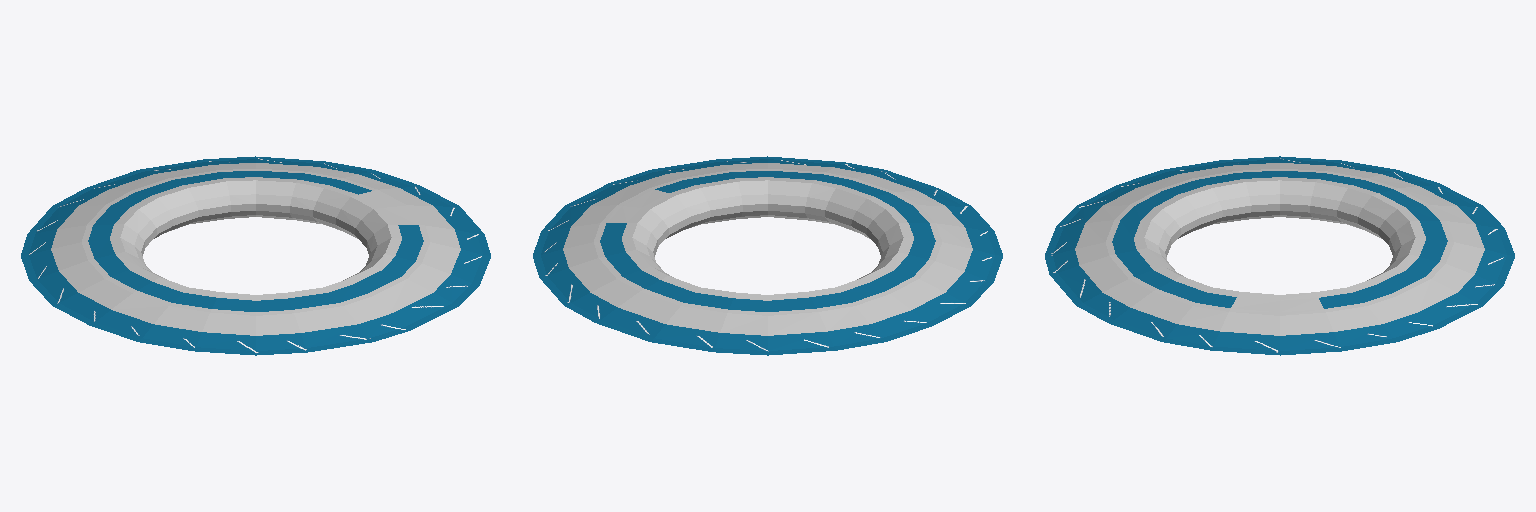
3 views of the same model, side by side, from view 1: azimuth 30°, elevation 25°; view 2: azimuth 150°, elevation 25°; view 3: azimuth 270°, elevation 25° (orthographic).
Visible parts, largest first — view 1: discus_lambert1_0, discus_disc_light_0; view 2: discus_lambert1_0, discus_disc_light_0; view 3: discus_lambert1_0, discus_disc_light_0.
Boxes of the visible parts, x1=… form: discus_lambert1_0: x1=51, y1=163, x2=460, y2=335; discus_disc_light_0: x1=21, y1=156, x2=490, y2=355; discus_lambert1_0: x1=563, y1=163, x2=972, y2=335; discus_disc_light_0: x1=533, y1=156, x2=1002, y2=355; discus_lambert1_0: x1=1075, y1=163, x2=1484, y2=335; discus_disc_light_0: x1=1045, y1=156, x2=1514, y2=355.
Size of the model in its own units: 2.09 by 0.1841 by 2.09.
Materials: 2 (1 with a texture image).